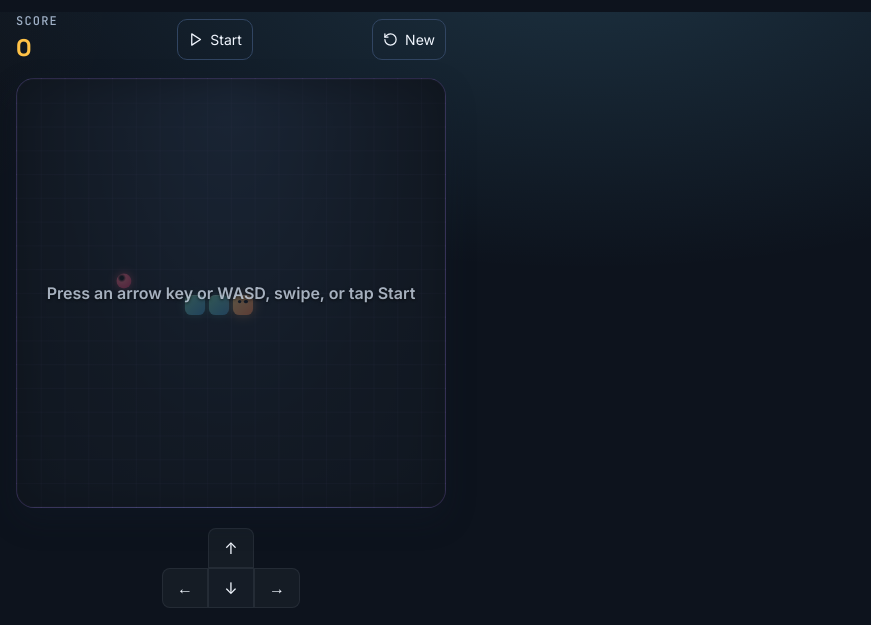
Test: Neon Snake component › starts from the Start button too
What coordinates should you click on to do the following:
click the button "Start"
I would click on:
 (215, 39)
Its box is [177, 18, 253, 60].
Wait 140 ms
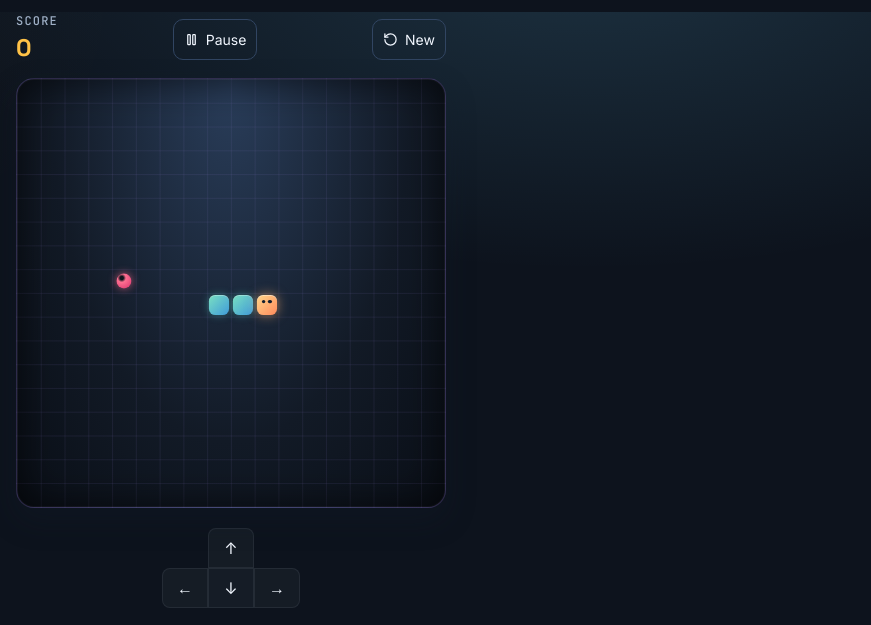
Now the button "Pause" is shown, box [173, 18, 257, 60]
